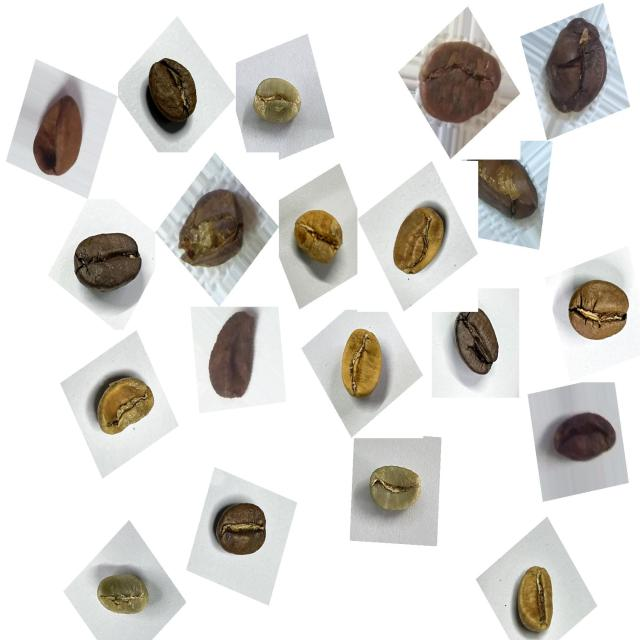bad: (414, 26, 510, 132), (537, 11, 617, 126), (20, 76, 97, 189), (170, 177, 254, 280), (195, 304, 268, 411), (544, 394, 622, 476), (472, 153, 540, 235)
dark: (69, 222, 146, 300), (446, 304, 511, 386)
green: (360, 452, 432, 530), (242, 65, 310, 141), (92, 560, 158, 629)
light: (382, 190, 459, 286), (84, 360, 165, 449), (322, 320, 396, 414), (502, 550, 573, 636), (288, 194, 354, 279)
medium: (560, 271, 637, 356), (139, 51, 211, 135), (208, 491, 278, 572)
